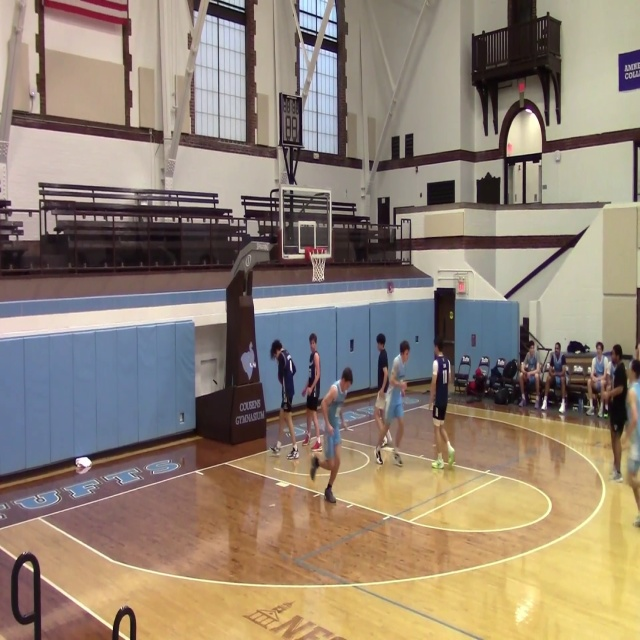Basketball: (75, 456, 92, 470)
